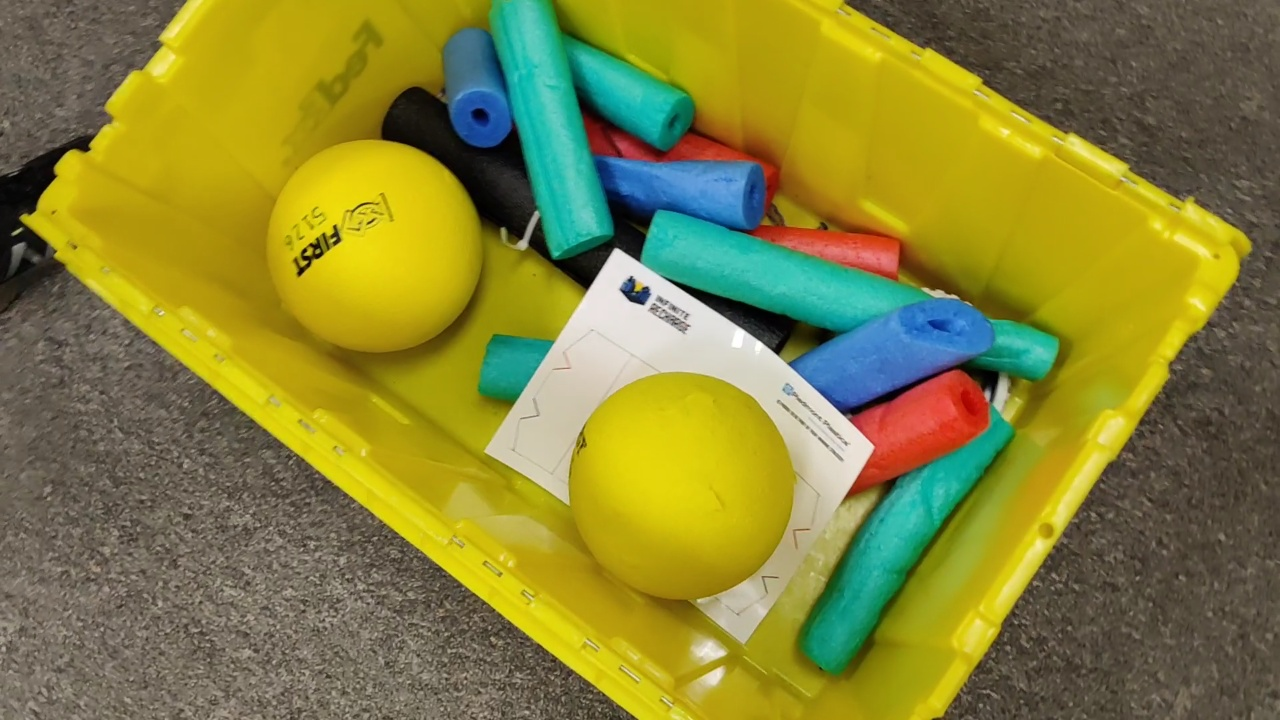Ball: (567, 372, 796, 601), (265, 140, 482, 351)
